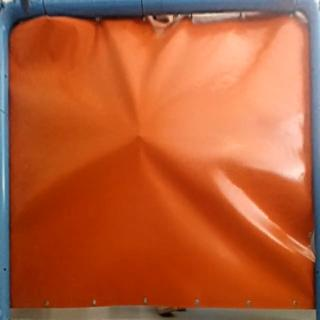Hit-hRxx: (130, 131, 148, 142)
